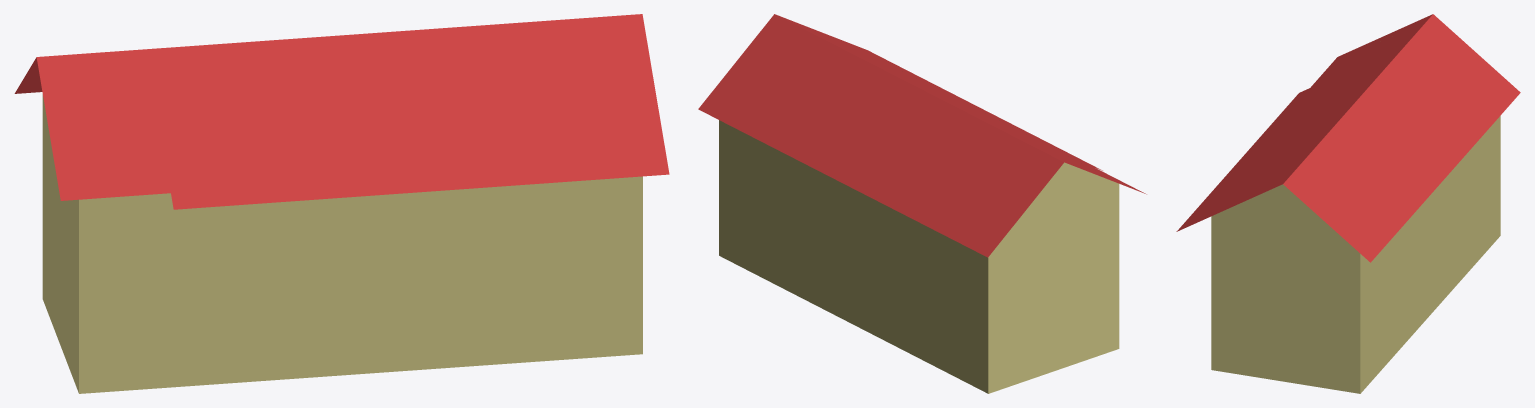
3 views of the same model, side by side, from view 1: azimuth 30°, elevation 25°; view 2: azimuth 150°, elevation 25°; view 3: azimuth 270°, elevation 25° (orthographic). The views are drawn at different scales.
Bounding box in the file's own units: 27.32 × 19.99 × 13.
